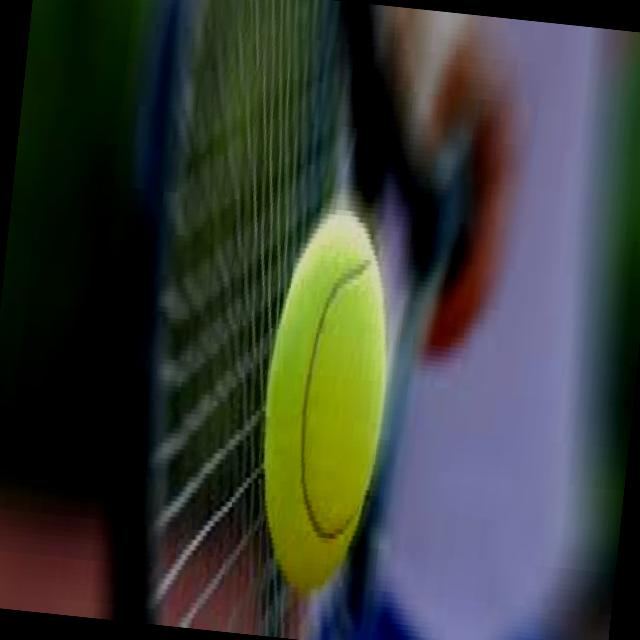tennis-ball: (247, 211, 400, 601)
